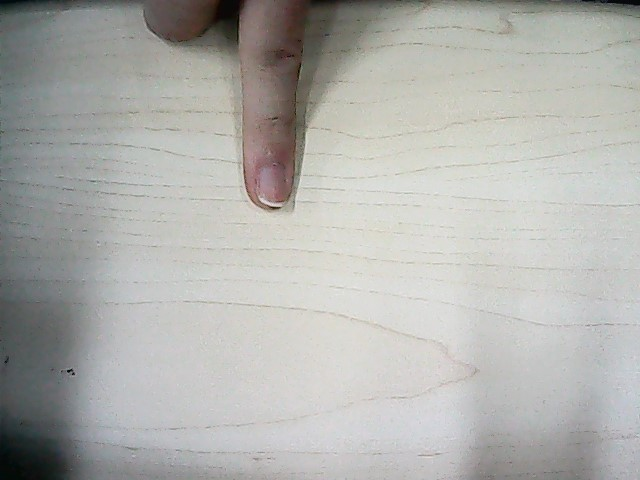nail: (253, 158, 290, 213)
